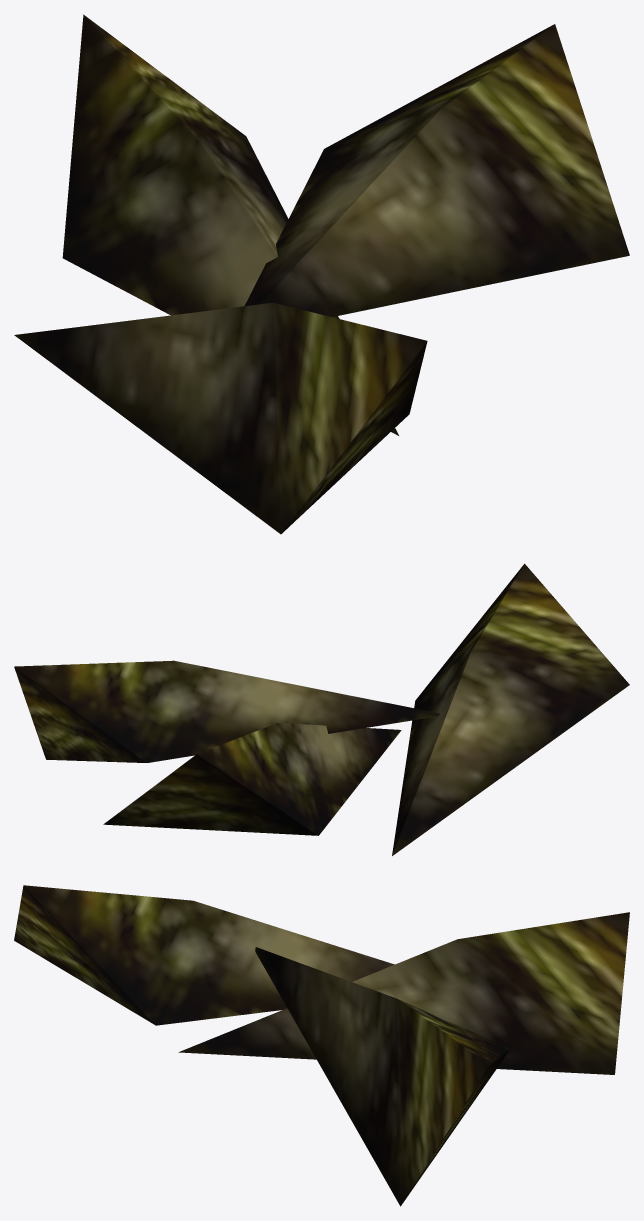
Rendered from ITAT_CLAW.glb.
3 views of the same model, one above another, from view 1: azimuth 30°, elevation 25°; view 2: azimuth 150°, elevation 25°; view 3: azimuth 270°, elevation 25° (orthographic). The views are drawn at different scales.
Parts seen in each view (by area): view 1: ITAT_CLAW; view 2: ITAT_CLAW; view 3: ITAT_CLAW.
Boxes of the visible parts, x1,y1,x2,y2 form: ITAT_CLAW: (14,14,629,534); ITAT_CLAW: (14,563,629,855); ITAT_CLAW: (14,885,629,1206).
Size of the model in its own units: 0.3427 by 0.1165 by 0.4109.
Materials: 1 (1 with a texture image).
